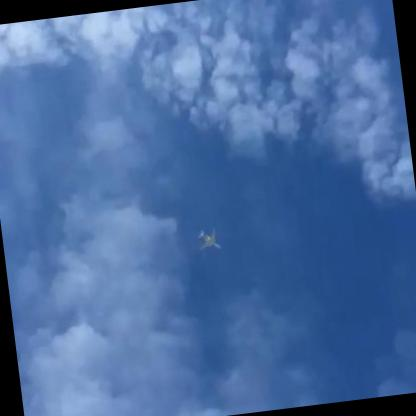plane: (192, 222, 224, 259)
